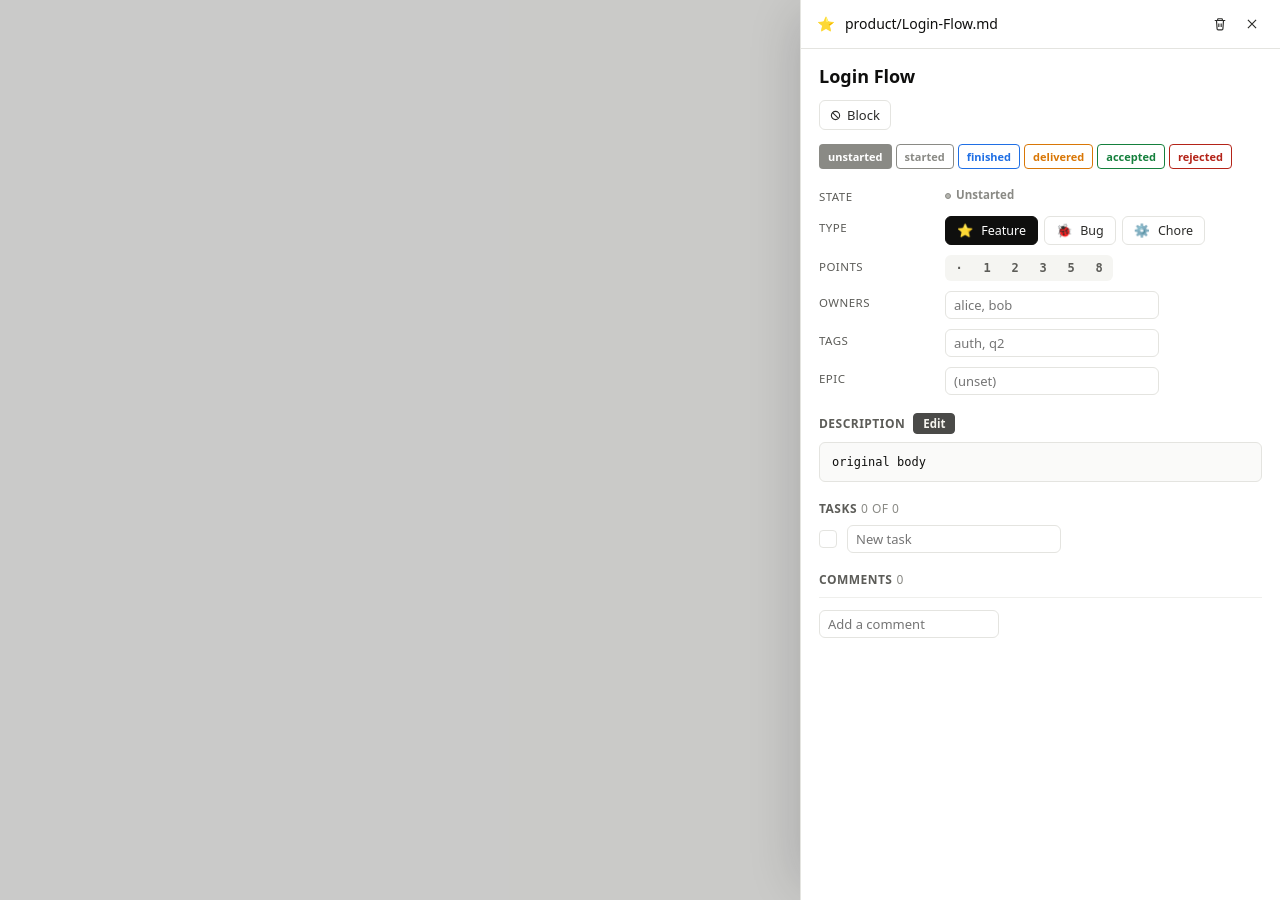
Test case: DetailPanel: description editor › Save commits the draft body via set-description and closes edit mode
Click the button "Edit" at (934,424), box [913,413,955,434]
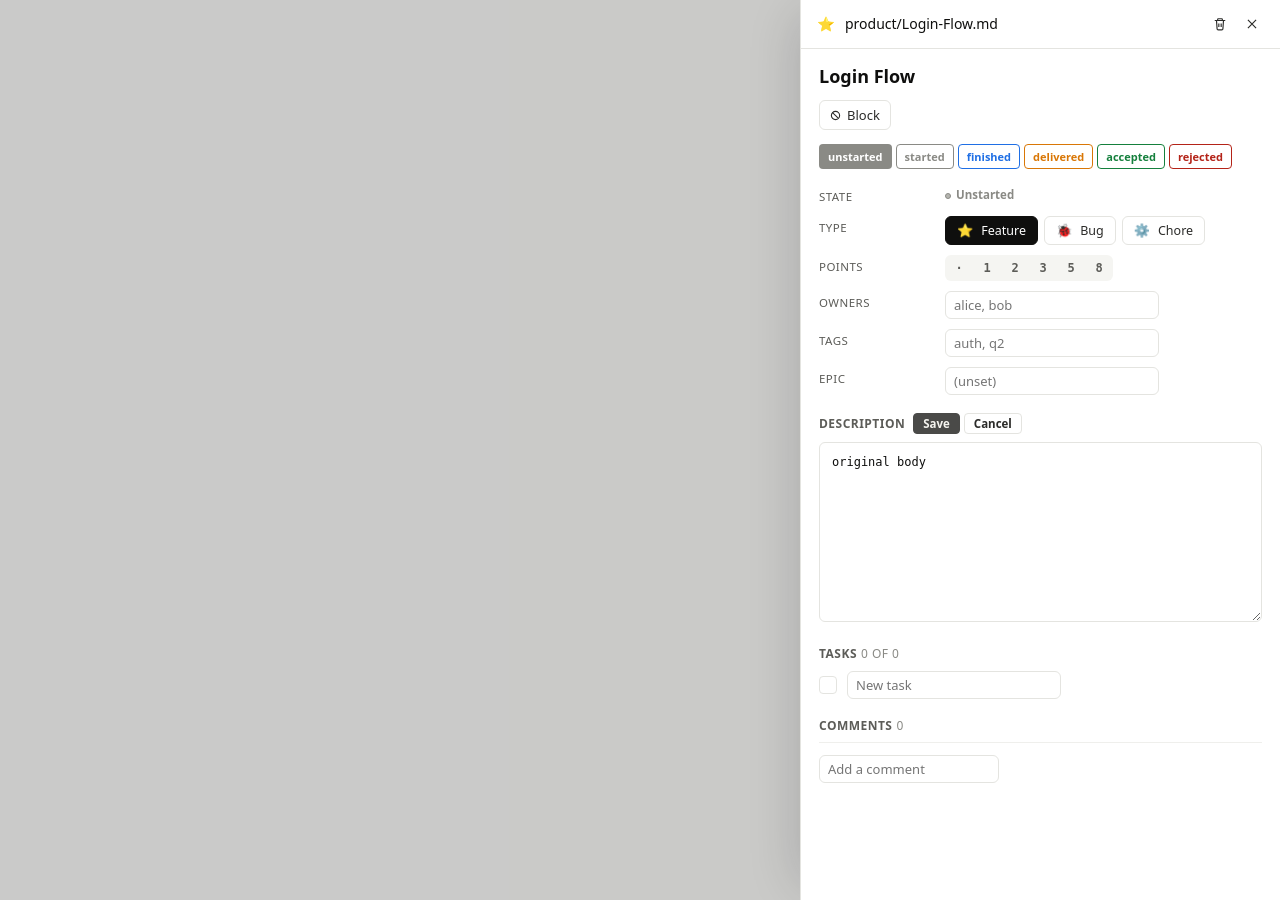
Replace the text in the text box showing "original body" with "rewritten body" at (1040,532), box [819,442,1262,622]
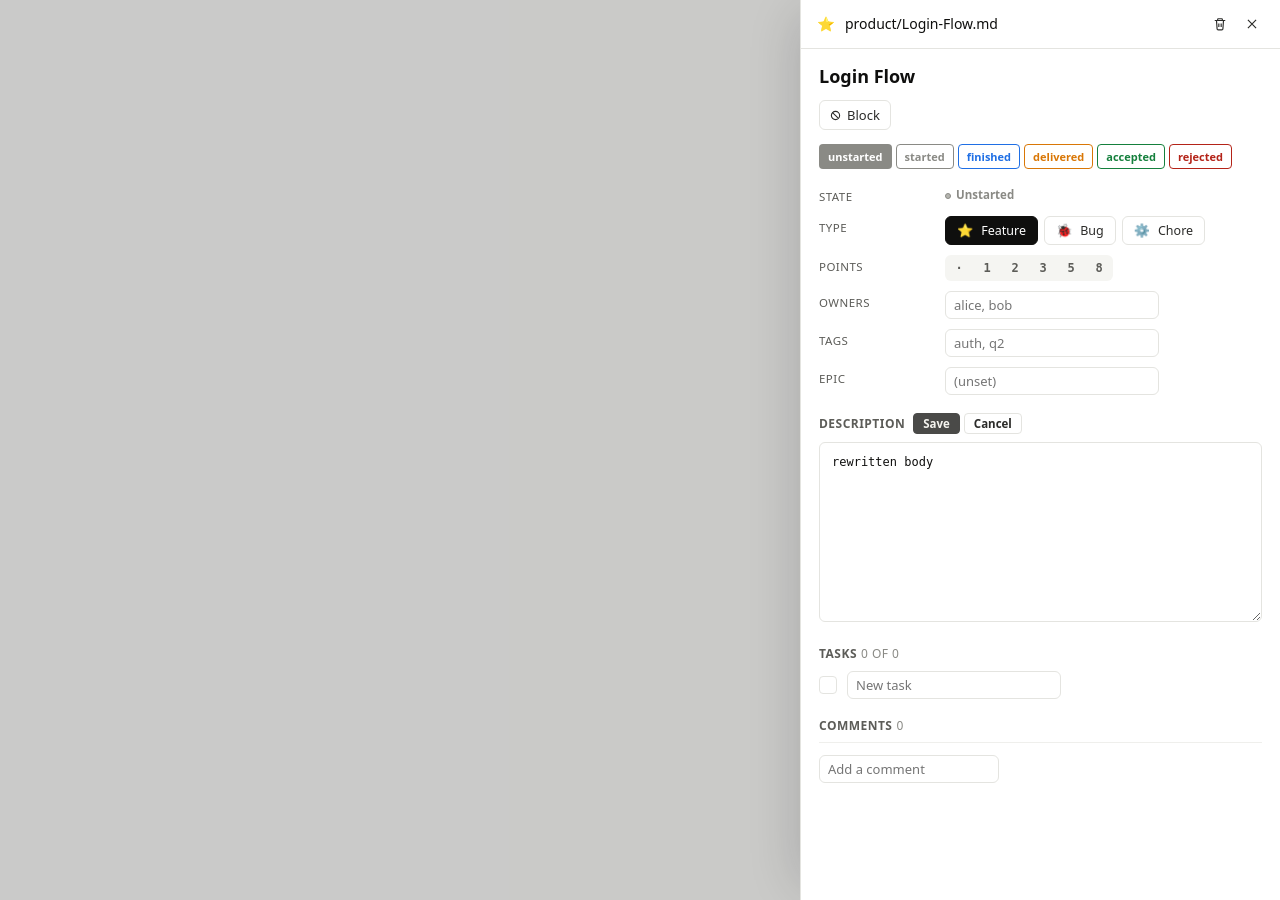
Click the button "Save" at (936,424), box [913,413,960,434]
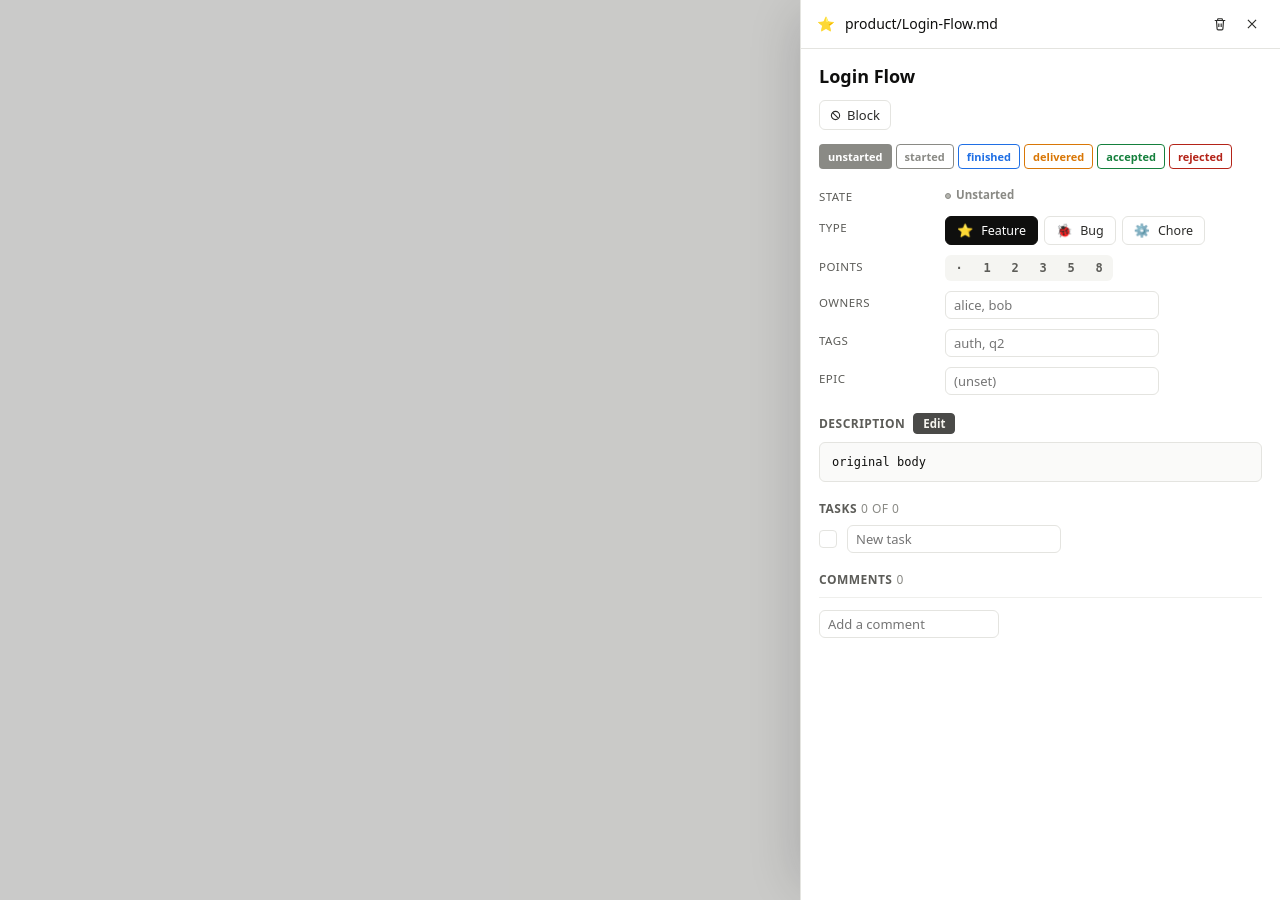
expect the button "Save" is gone: met
